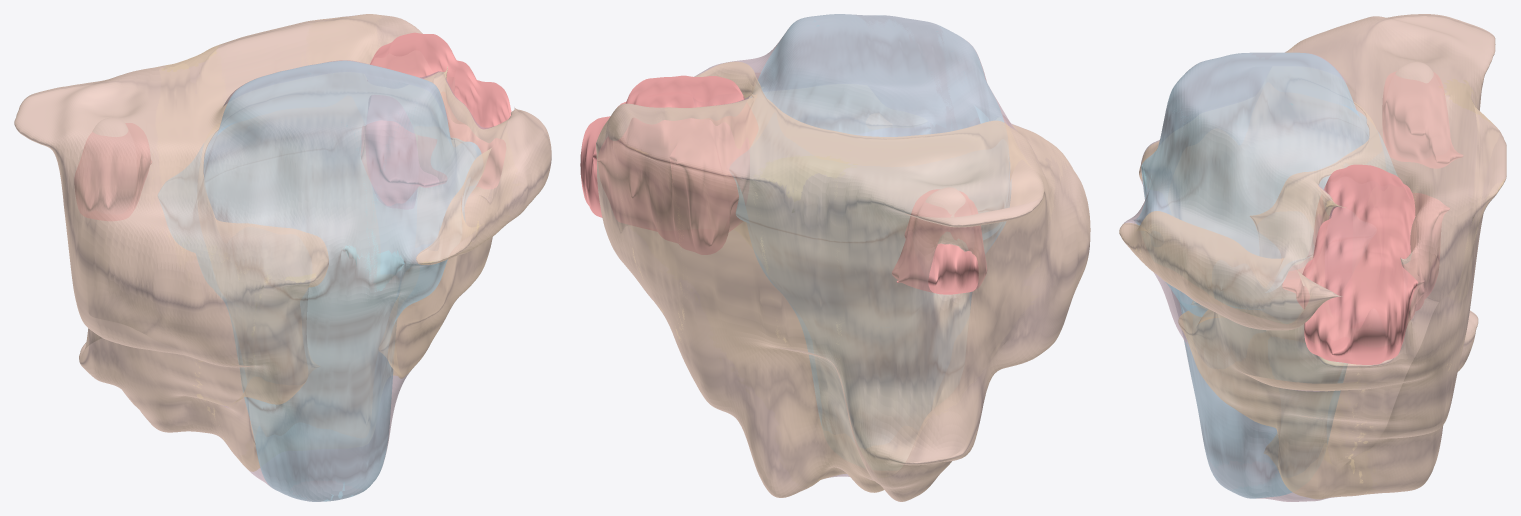
The picture shows the model from 3 angles, left to right: view 1: azimuth 30°, elevation 25°; view 2: azimuth 150°, elevation 25°; view 3: azimuth 270°, elevation 25°; orthographic projection. The views are drawn at different scales.
Parts seen in each view (by area): view 1: prostate_gland, peripheral_zone, transition_zone, lesion_01; view 2: prostate_gland, peripheral_zone, lesion_01, transition_zone; view 3: prostate_gland, peripheral_zone, transition_zone, lesion_01.
Part boxes in pixels (left/top/right/bottom): prostate_gland: left=14, top=14, right=551, bottom=501; peripheral_zone: left=14, top=14, right=551, bottom=471; transition_zone: left=158, top=61, right=481, bottom=501; lesion_01: left=74, top=32, right=511, bottom=220; prostate_gland: left=596, top=14, right=1090, bottom=501; peripheral_zone: left=596, top=62, right=1090, bottom=501; lesion_01: left=580, top=75, right=986, bottom=294; transition_zone: left=733, top=14, right=1011, bottom=424; prostate_gland: left=1119, top=14, right=1506, bottom=501; peripheral_zone: left=1119, top=14, right=1506, bottom=498; transition_zone: left=1134, top=53, right=1397, bottom=498; lesion_01: left=1282, top=72, right=1462, bottom=364.
Bounding box in the file's own units: 0.0519 × 0.042 × 0.0374.
